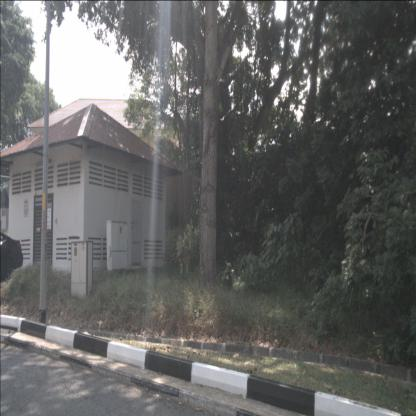vehicle-car: (0, 231, 24, 285)
